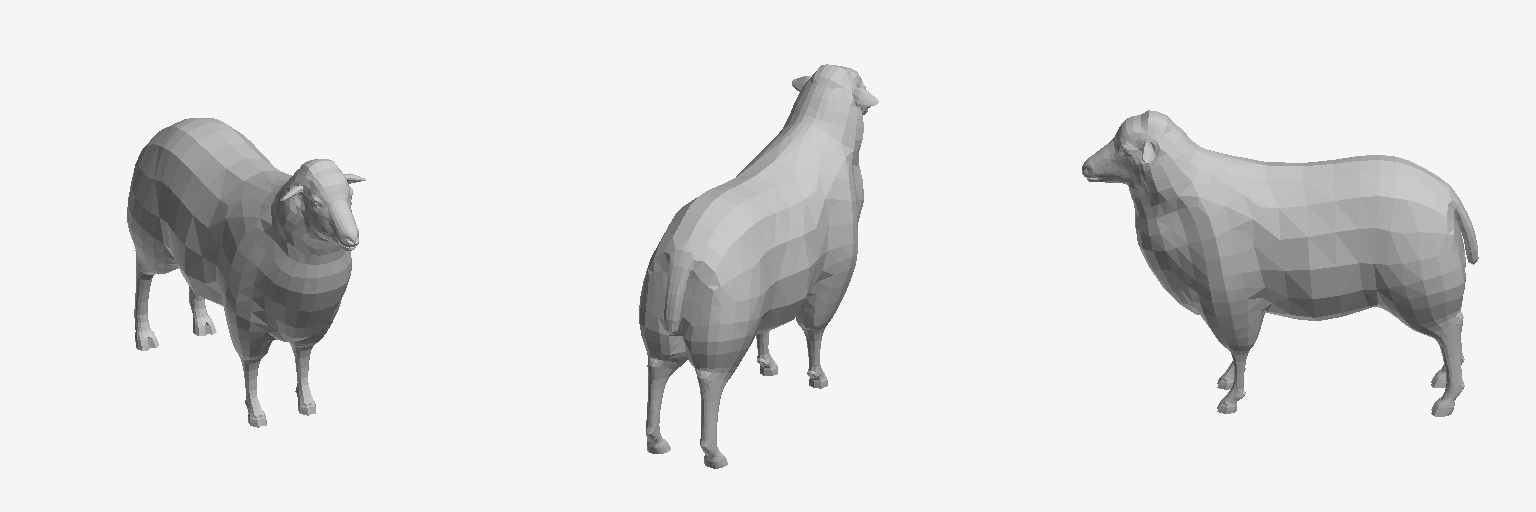
Rendered from sheep.obj.
3 renders of one model, left to right at view 1: azimuth 30°, elevation 25°; view 2: azimuth 150°, elevation 25°; view 3: azimuth 270°, elevation 25°, orthographic.
Parts seen in each view (by area): view 1: Sheep_Sheep.001; view 2: Sheep_Sheep.001; view 3: Sheep_Sheep.001.
Boxes of the visible parts, <box> form: Sheep_Sheep.001: <box>127,118,365,427</box>; Sheep_Sheep.001: <box>639,64,878,468</box>; Sheep_Sheep.001: <box>1082,110,1478,416</box>.
Size of the model in its own units: 0.7672 by 1.83 by 2.31.